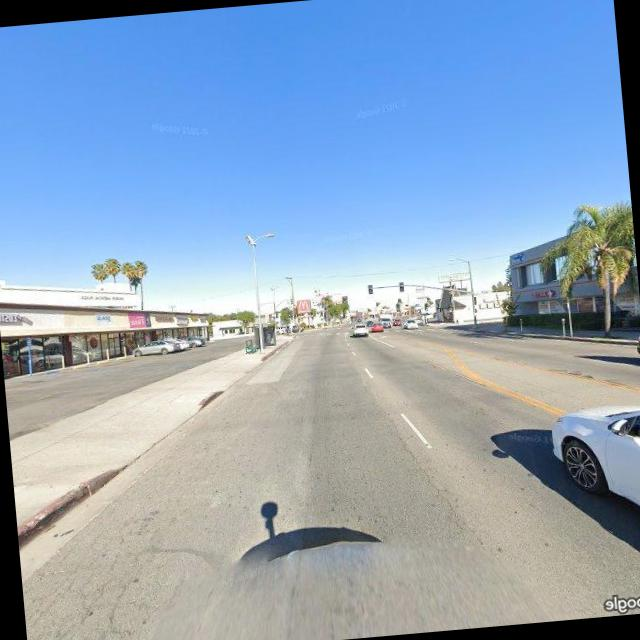pothole: (394, 416, 474, 542)
